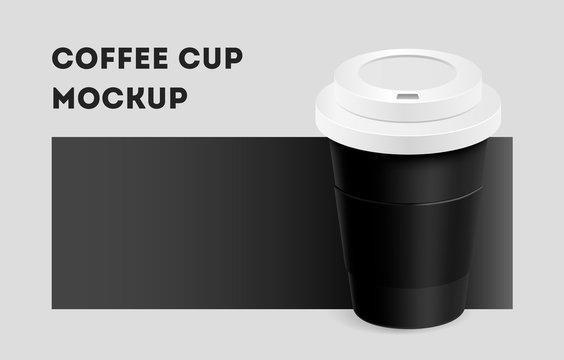cup-disposable: (312, 43, 504, 332)
